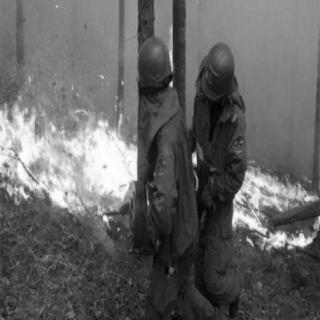Fire: (0, 82, 142, 220), (232, 146, 318, 262), (167, 21, 175, 93)
